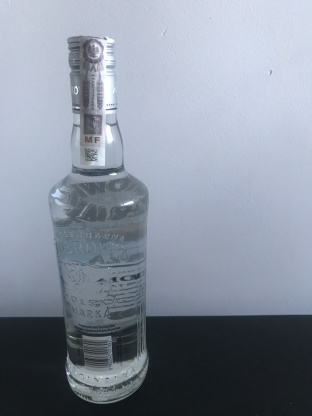nakretka: (64, 31, 119, 117)
